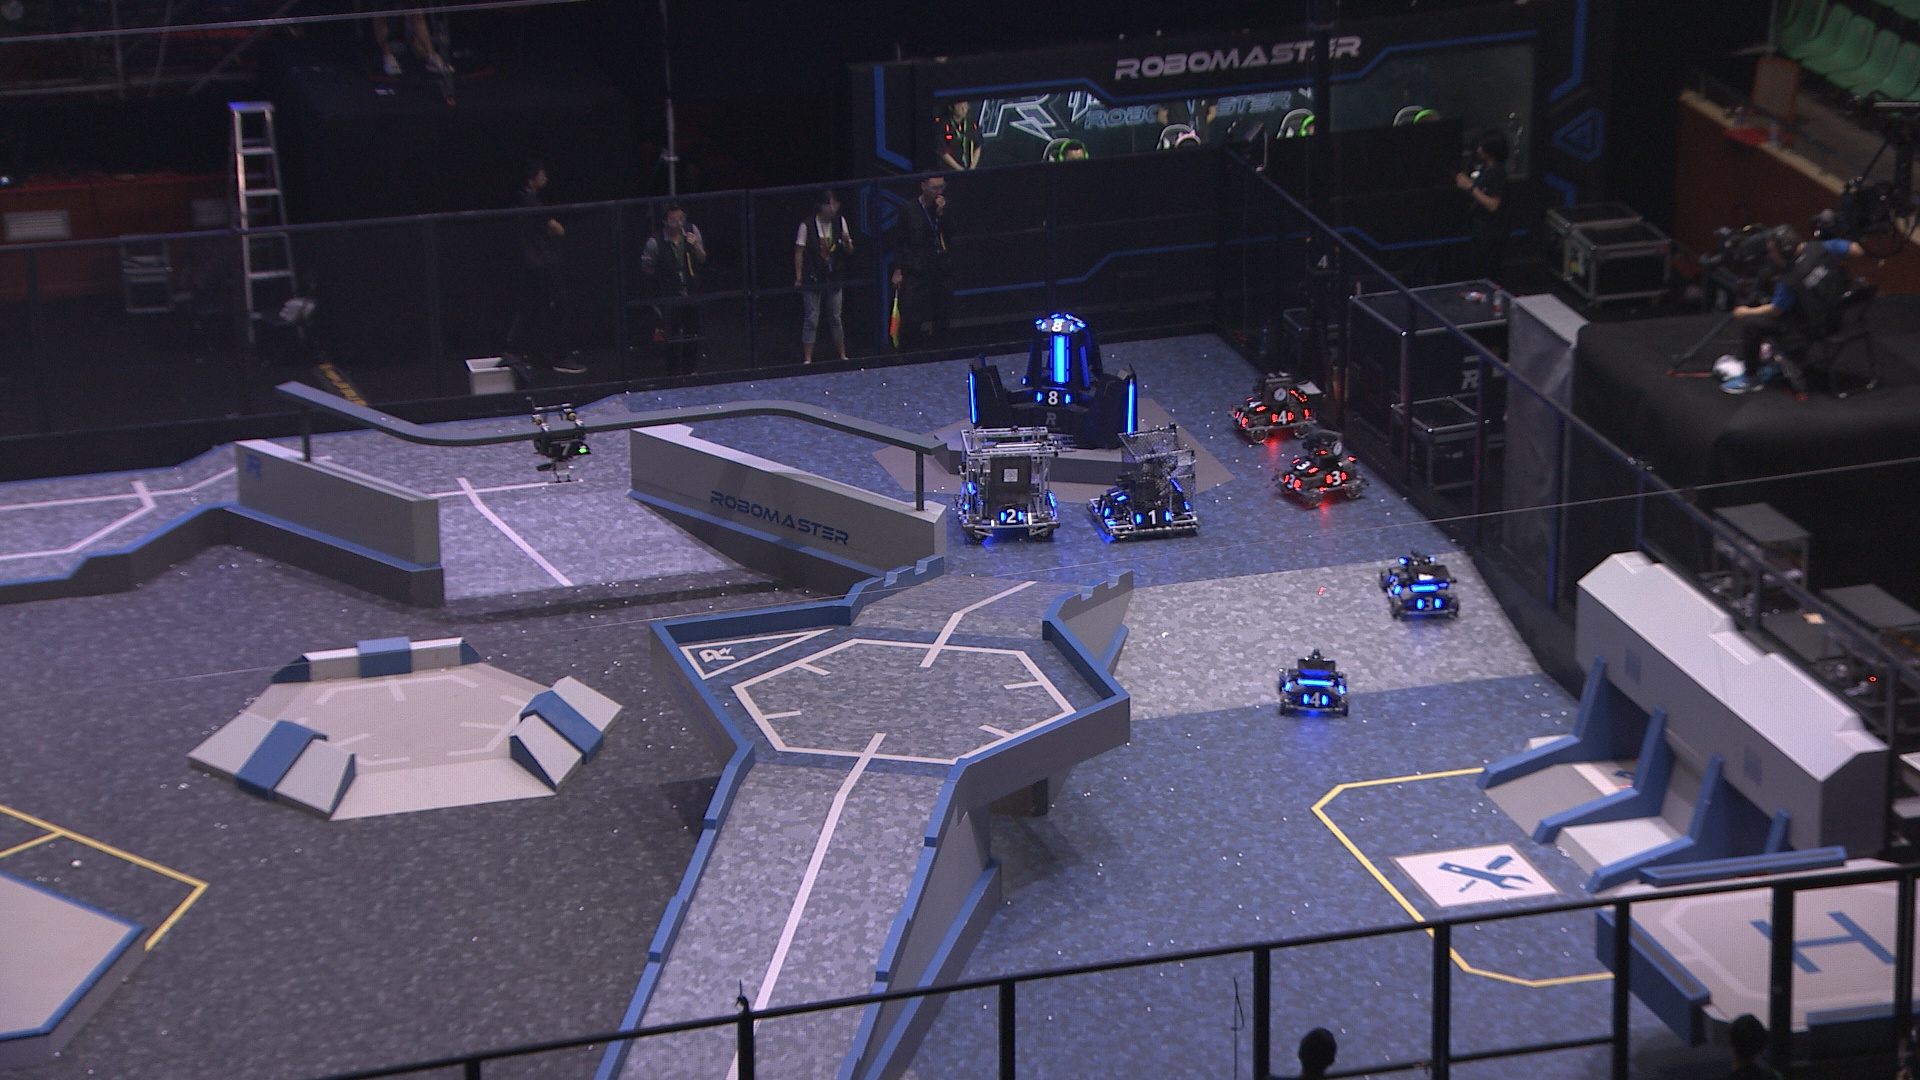armor: (1048, 335, 1073, 385), (1073, 343, 1093, 392), (1122, 381, 1139, 436), (545, 438, 585, 458), (1039, 315, 1076, 335), (1133, 508, 1171, 526), (1035, 390, 1073, 407), (967, 372, 978, 425), (1411, 595, 1443, 615), (1302, 688, 1328, 711), (1106, 484, 1131, 505), (997, 508, 1025, 526), (1387, 570, 1406, 597), (1291, 456, 1319, 475), (1323, 469, 1349, 488), (1280, 671, 1300, 695), (1244, 396, 1269, 414), (1280, 472, 1302, 493), (1271, 406, 1295, 425), (955, 489, 972, 513), (1095, 496, 1112, 518), (1062, 314, 1083, 328), (1233, 407, 1250, 425)
base: (960, 309, 1139, 451)
car: (1083, 419, 1205, 543), (951, 425, 1060, 546), (1273, 427, 1375, 510), (1224, 367, 1321, 443), (1373, 546, 1462, 622), (1273, 647, 1352, 721)
watcher: (522, 396, 593, 484)
